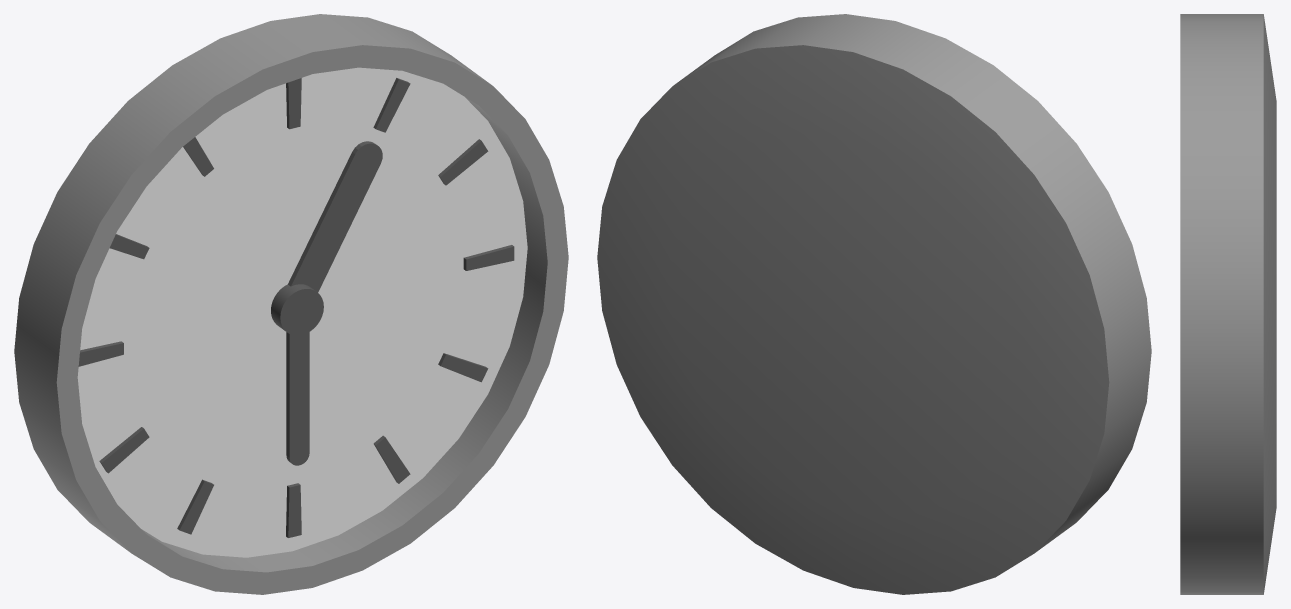
The model's file is one_thirty.glb.
3 renders of one model, left to right at view 1: azimuth 30°, elevation 25°; view 2: azimuth 150°, elevation 25°; view 3: azimuth 270°, elevation 25°, orthographic.
Parts seen in each view (by area): view 1: Circle.2438; view 2: Circle.2438; view 3: Circle.2438.
Boxes of the visible parts, bbox=[...] form: Circle.2438: bbox=[14, 14, 568, 594]; Circle.2438: bbox=[597, 14, 1151, 594]; Circle.2438: bbox=[1180, 14, 1276, 594].
Bounding box in the file's own units: 2.33 × 2.33 × 0.387.
Materials: 1 (1 with a texture image).
